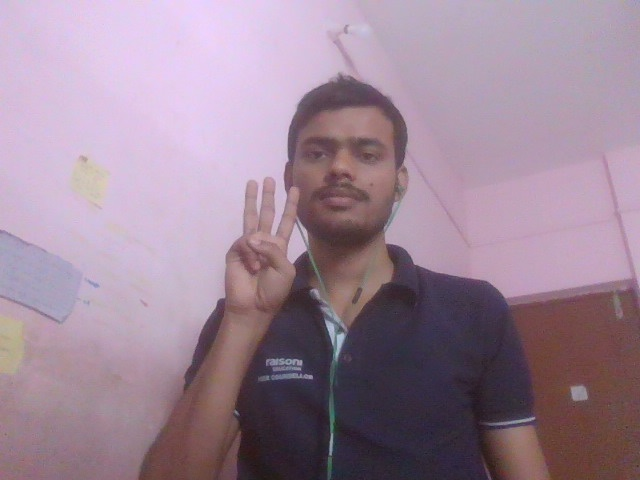Water: (184, 141, 340, 401)
